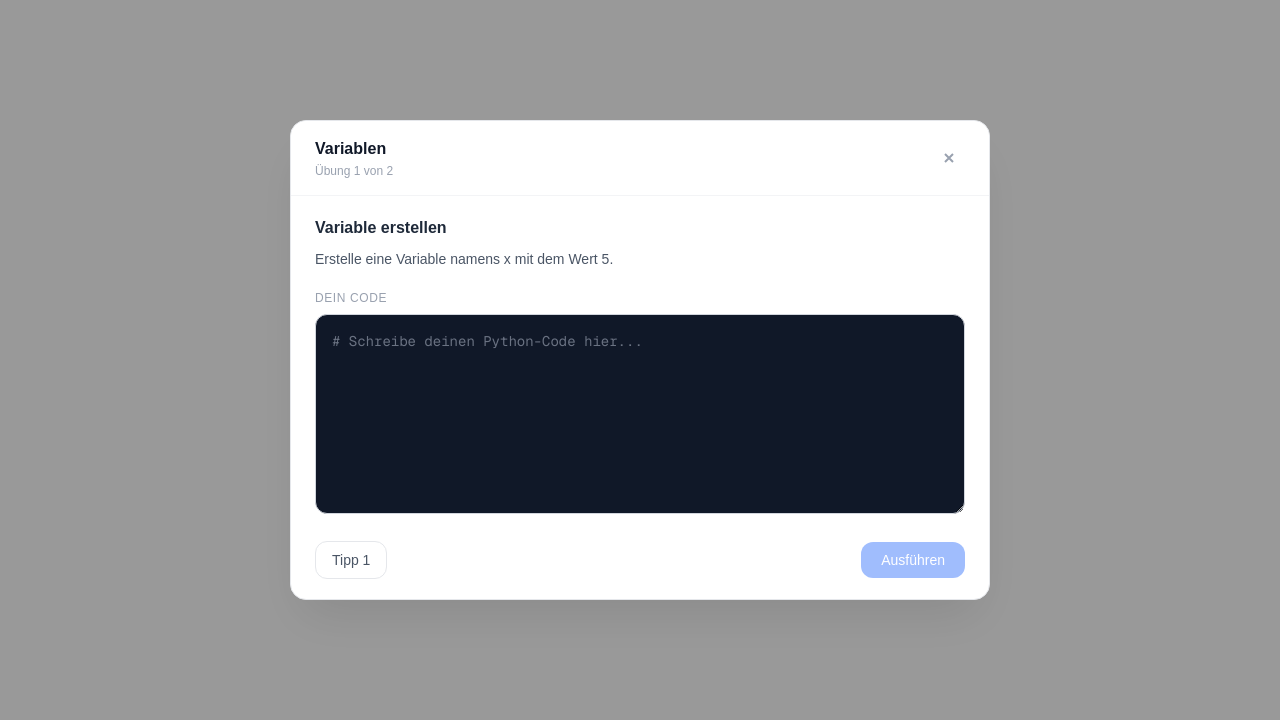
ExerciseModal › shows Richtig banner when submitExercise returns richtig
Expected: the heading "Variable erstellen" is shown, [315, 219, 447, 236]
Type "x = 5" into the text box at (640, 414), box [315, 314, 965, 514]
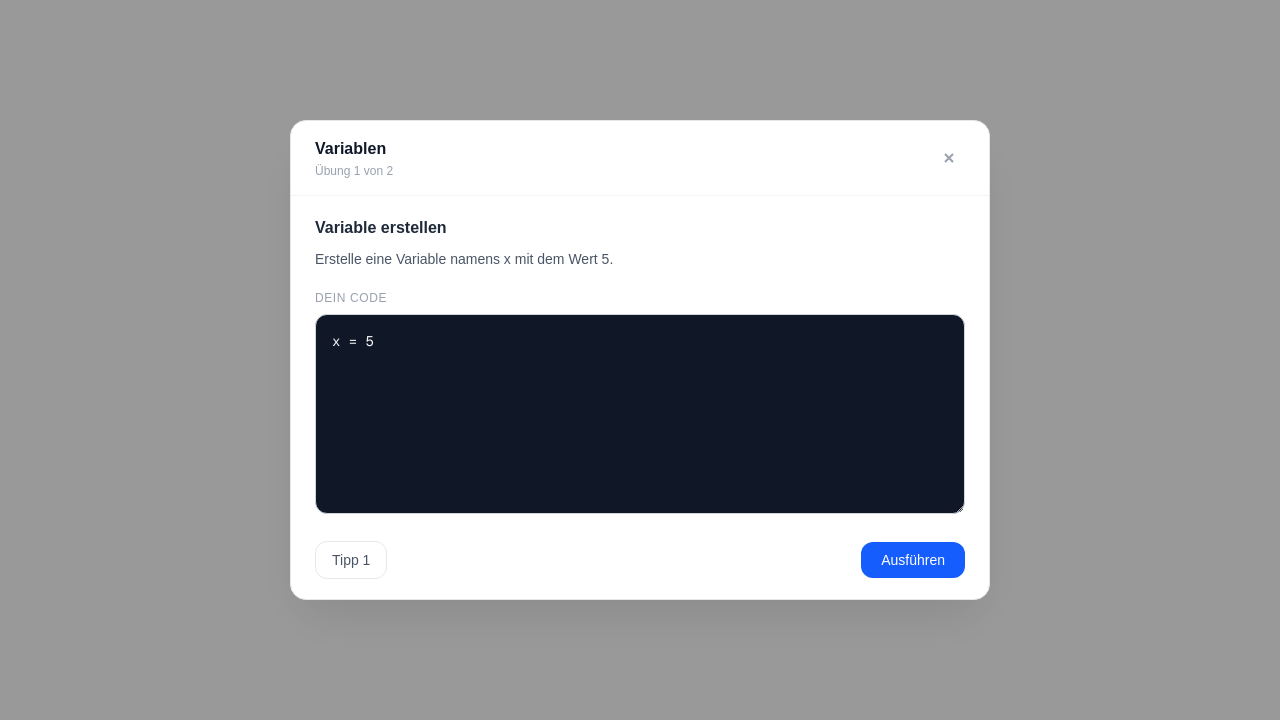
Click the button "Ausführen" at (913, 560), box [861, 542, 965, 578]
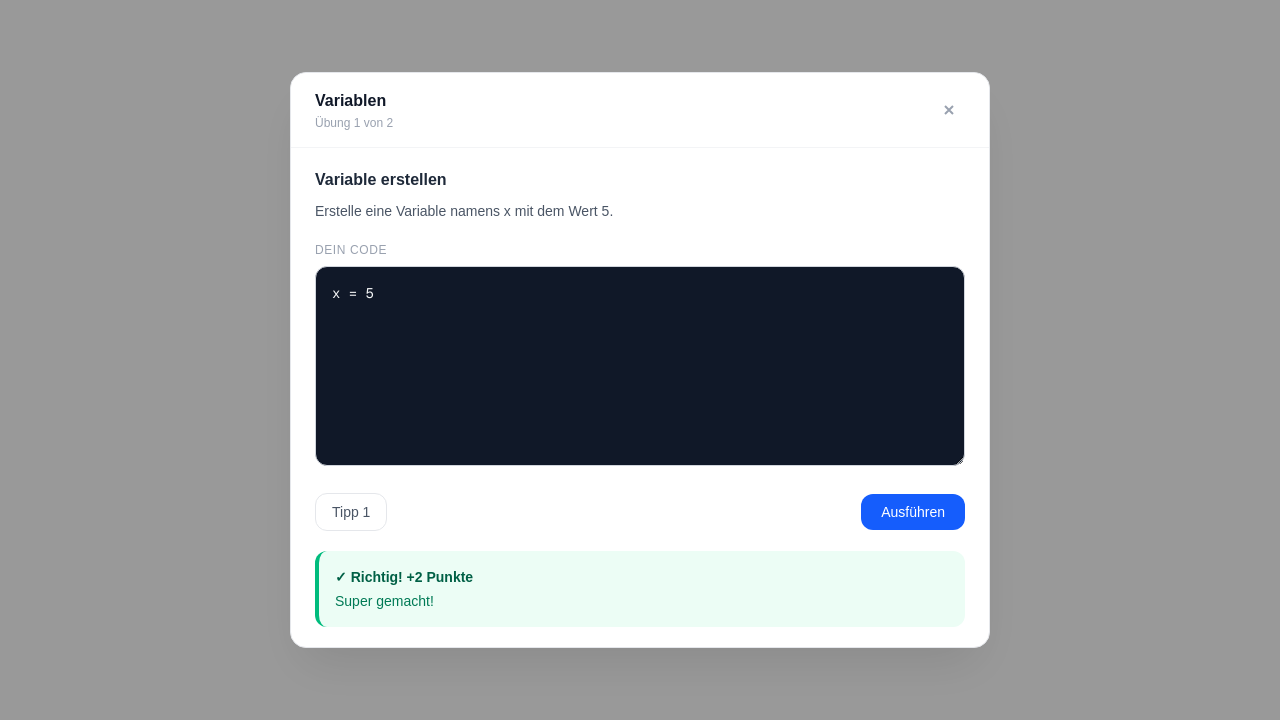
Now the text "✓ Richtig! +2 Punkte" is shown, box [335, 569, 473, 585]
Now the text "Super gemacht!" is shown, box [335, 593, 434, 609]
